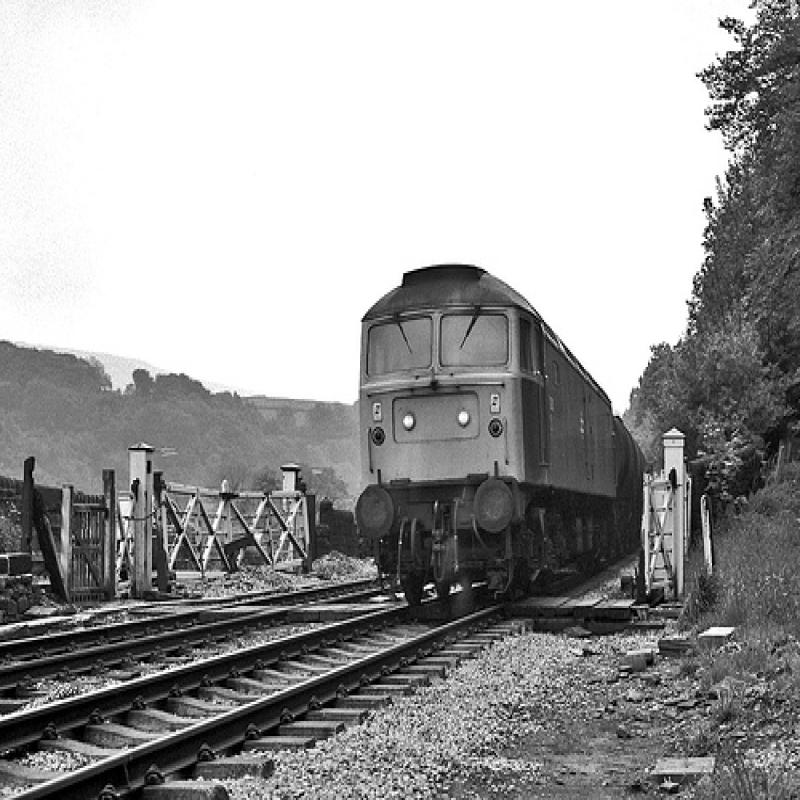train: (353, 264, 647, 618)
